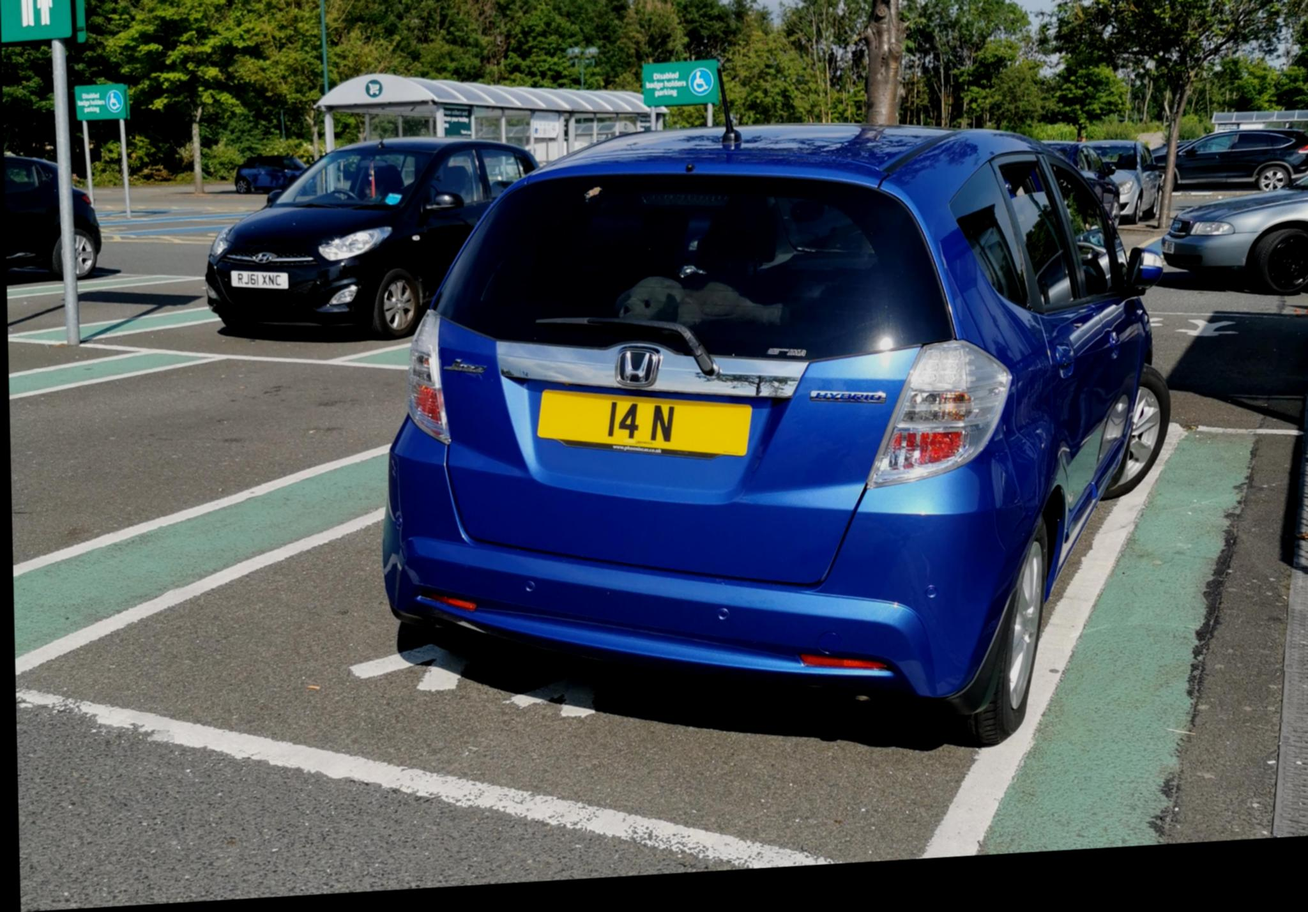License_Plate: (528, 372, 755, 476)
